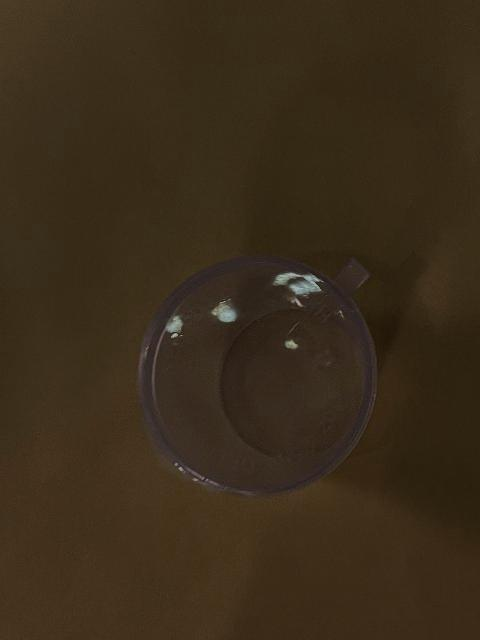plasticcontainer: (134, 250, 380, 500)
